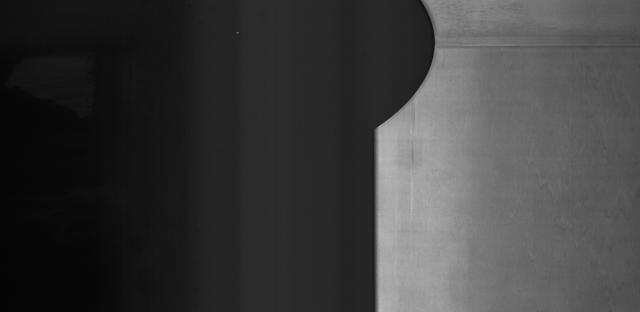crescent_gap: (353, 0, 447, 134)
